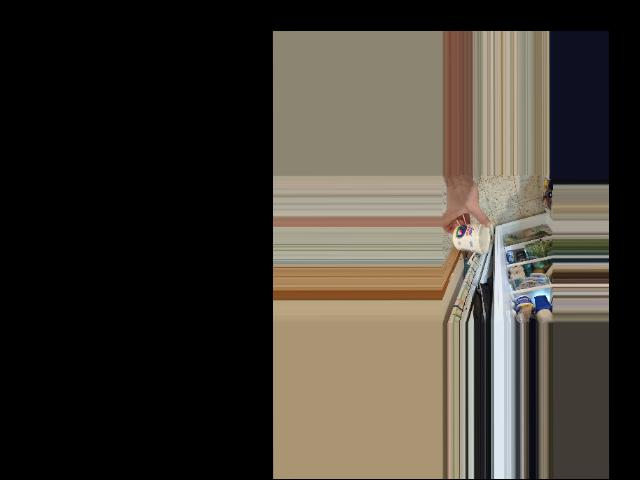cotage: (452, 223, 494, 252)
